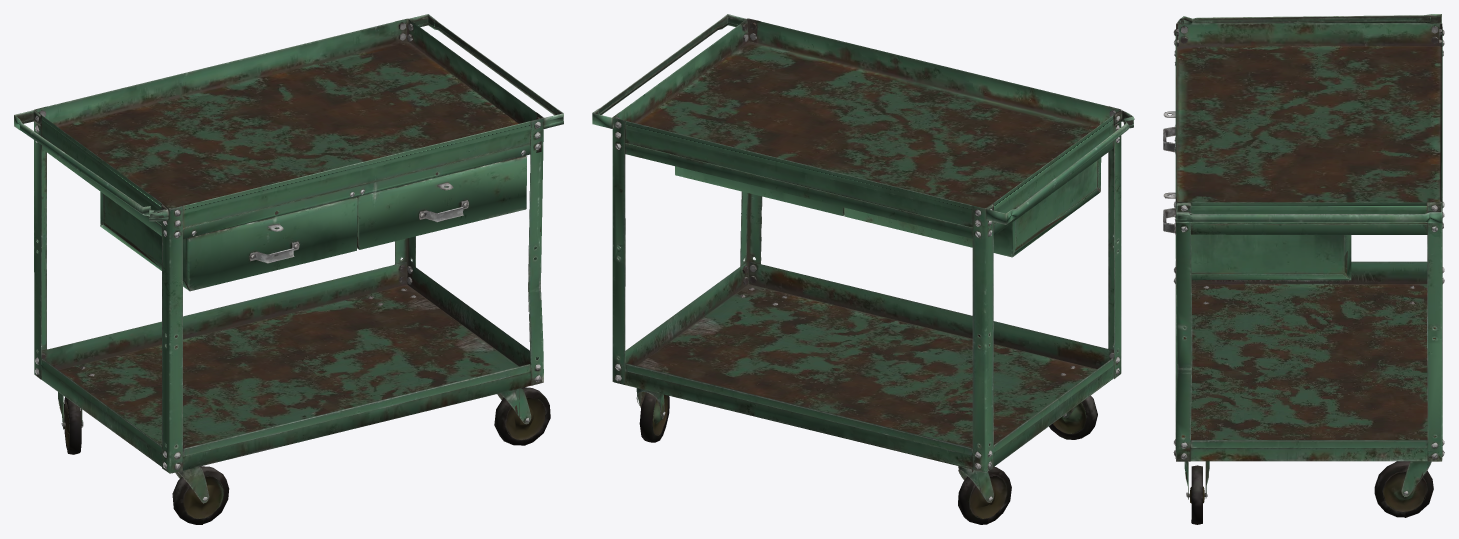
Rendered from ph_tool_cart.glb.
3 views of the same model, side by side, from view 1: azimuth 30°, elevation 25°; view 2: azimuth 150°, elevation 25°; view 3: azimuth 270°, elevation 25° (orthographic). The views are drawn at different scales.
Parts seen in each view (by area): view 1: tool_cart; view 2: tool_cart; view 3: tool_cart.
Boxes of the visible parts, <box> form: tool_cart: <box>14,14,563,524</box>; tool_cart: <box>592,14,1134,524</box>; tool_cart: <box>1163,14,1444,524</box>.
Size of the model in its own units: 1.27 by 0.9647 by 0.7543.
Materials: 1 (1 with a texture image).
